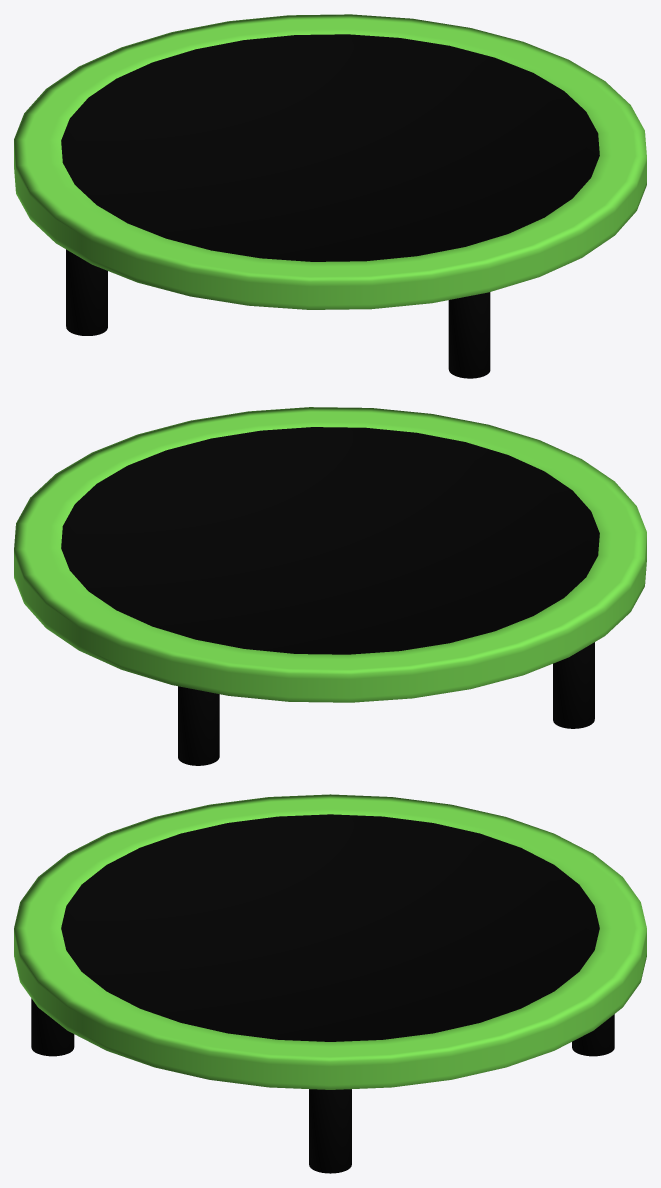
File: Trampoline.fbx
3 views of the same model, one above another, from view 1: azimuth 30°, elevation 25°; view 2: azimuth 150°, elevation 25°; view 3: azimuth 270°, elevation 25° (orthographic).
Visible parts, largest first — view 1: Cylinder.003; view 2: Cylinder.003; view 3: Cylinder.003.
Part boxes in pixels (<box>): Cylinder.003: <box>14,14,646,378</box>; Cylinder.003: <box>14,407,646,765</box>; Cylinder.003: <box>14,794,646,1173</box>.
Bounding box in the file's own units: 200 × 41.62 × 200.
